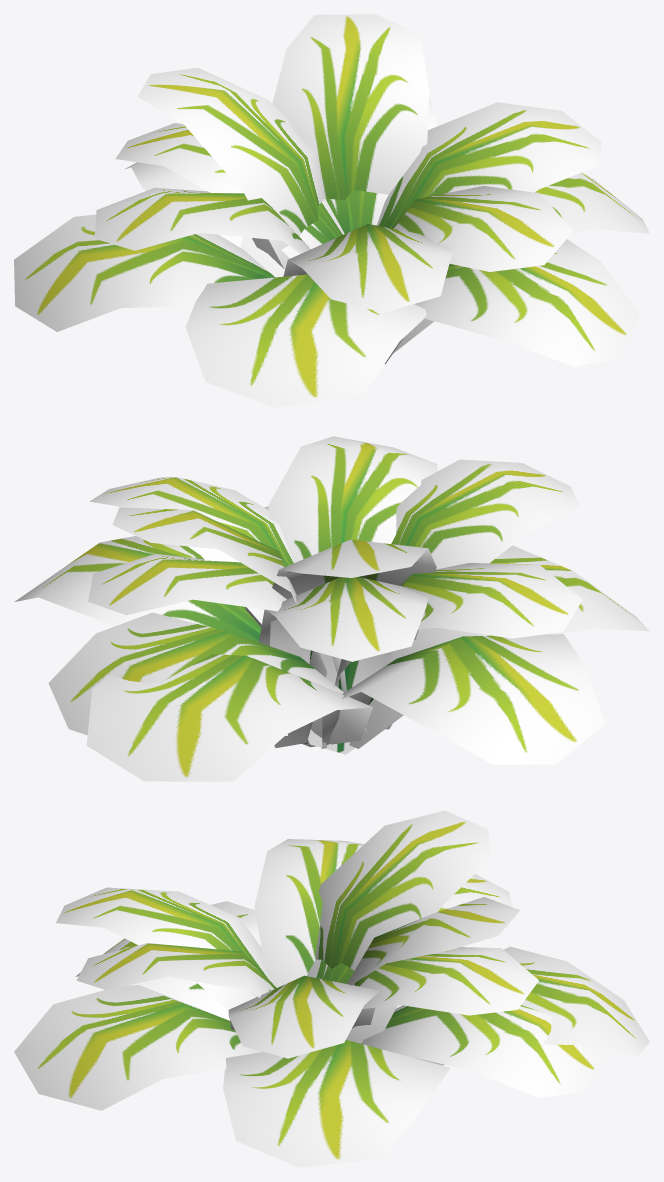
Rendered from Bush_03.FBX.
3 views of the same model, one above another, from view 1: azimuth 30°, elevation 25°; view 2: azimuth 150°, elevation 25°; view 3: azimuth 270°, elevation 25° (orthographic). The views are drawn at different scales.
Parts seen in each view (by area): view 1: Bush_03; view 2: Bush_03; view 3: Bush_03.
Part boxes in pixels (x1=…): Bush_03: x1=14, y1=14, x2=649, y2=407; Bush_03: x1=14, y1=436, x2=649, y2=781; Bush_03: x1=14, y1=810, x2=649, y2=1167.
Bounding box in the file's own units: 94.7 × 40.19 × 98.04.
1 material, 1 textured.
